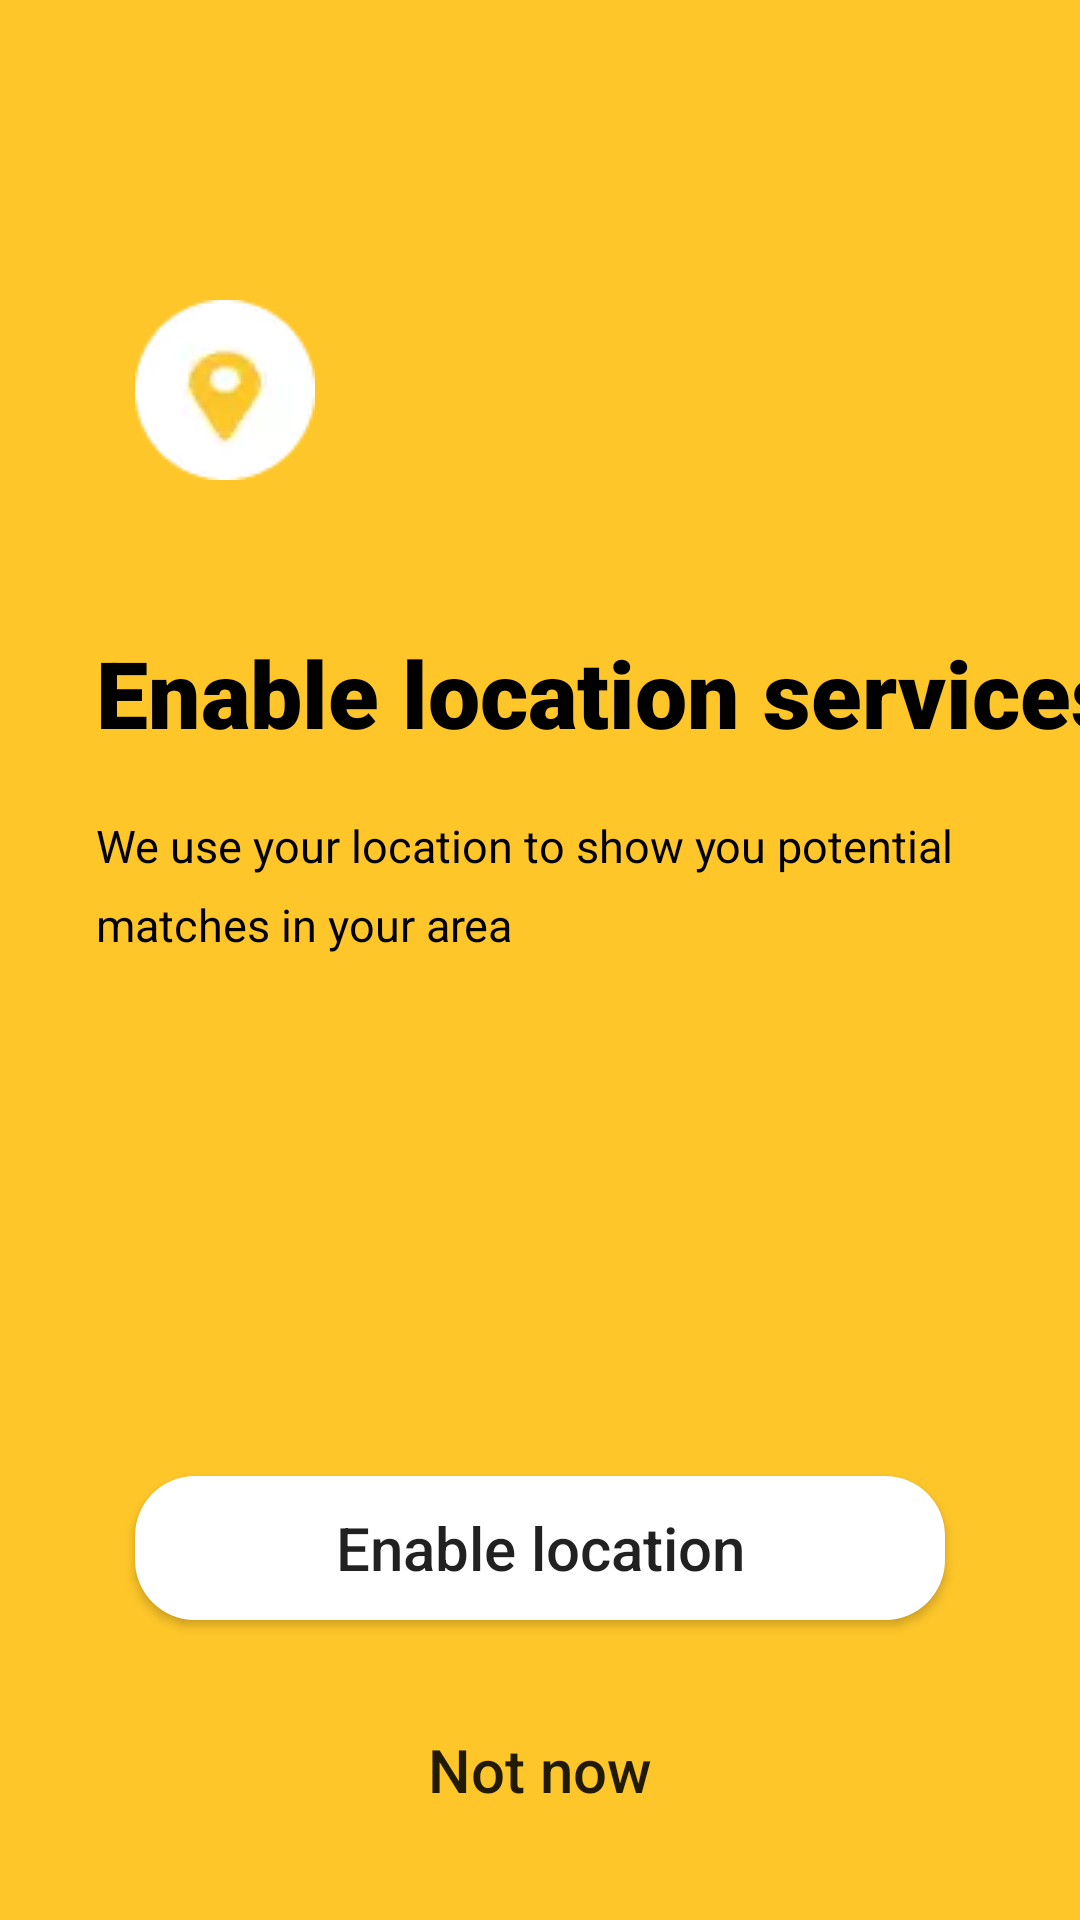

Where icons sit on this 1080*1920 app screen, as (x1, y1, x2, y2):
locationbumble: (135, 300, 315, 480)
